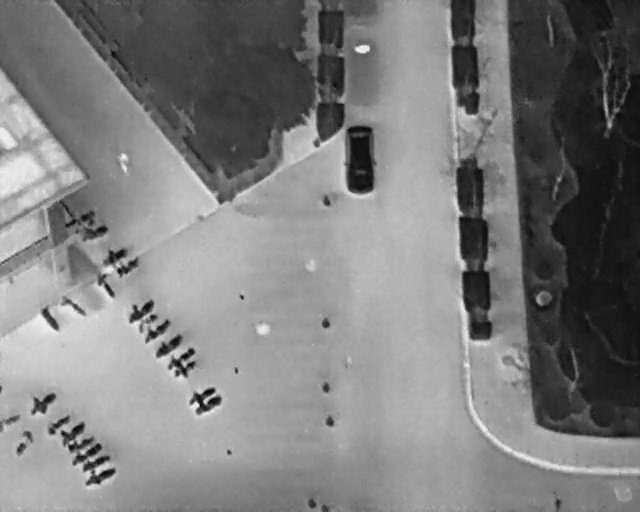Bicycle: (19, 381, 62, 422), (180, 377, 219, 412), (149, 329, 188, 362), (138, 315, 175, 348), (53, 415, 89, 448), (121, 294, 158, 326), (162, 342, 199, 374), (79, 461, 119, 490), (66, 440, 105, 469), (55, 290, 89, 323), (167, 354, 201, 385), (96, 241, 132, 269), (192, 391, 226, 420), (36, 301, 64, 335), (112, 252, 144, 281), (43, 409, 75, 438), (64, 431, 99, 457), (11, 427, 37, 462), (132, 308, 164, 336), (78, 451, 114, 475), (78, 220, 112, 244), (93, 271, 118, 302), (71, 207, 99, 229), (0, 413, 21, 431)
Car: (342, 123, 379, 195)
Person: (116, 152, 132, 177)
